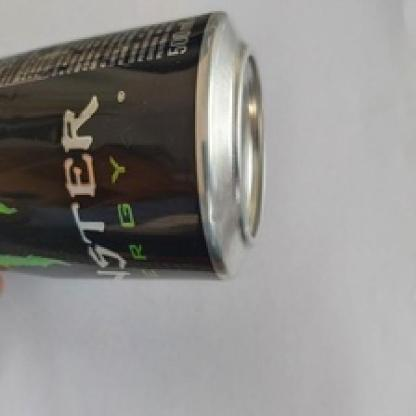Can: (0, 12, 268, 283)
